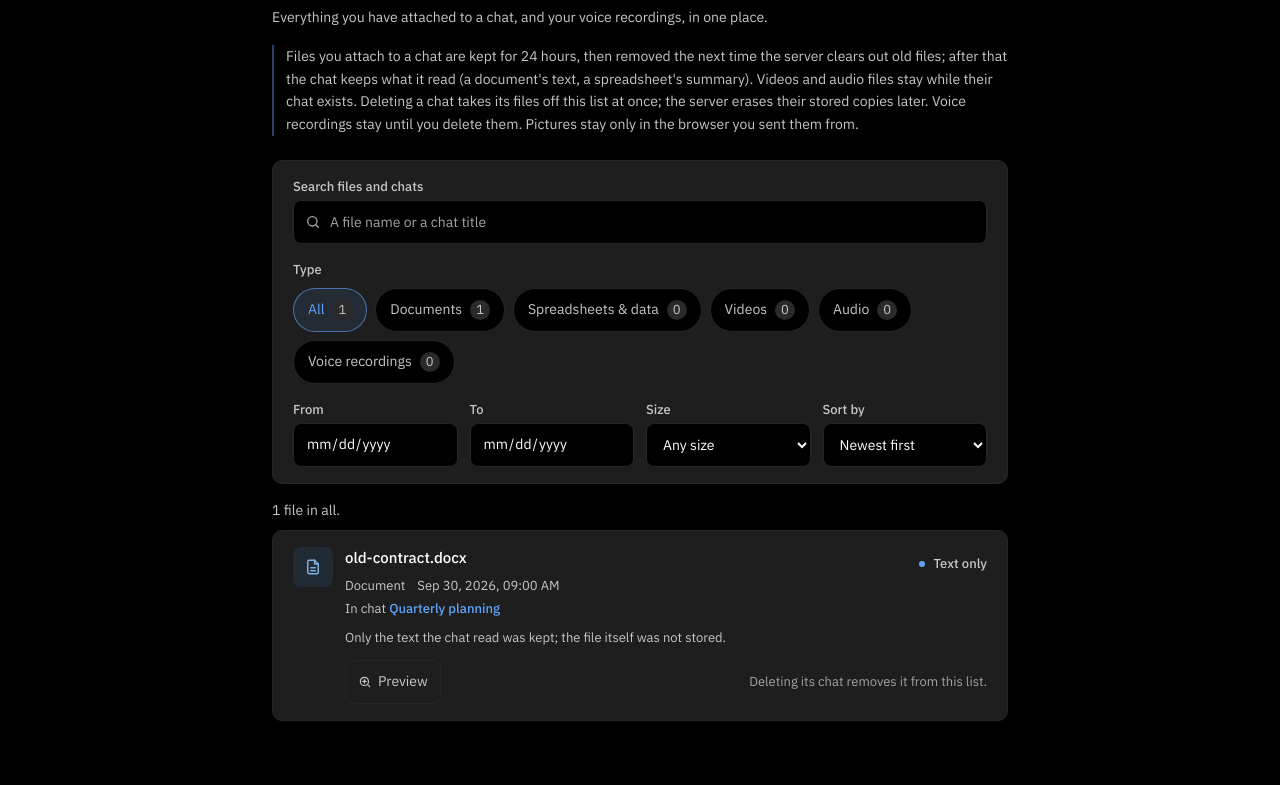
Test: each row › previews a text-only document from the text the chat read
(page scrolled)
Click the button named "Preview old-contract.docx" at (393, 682), box x1=345 y1=660 x2=441 y2=704
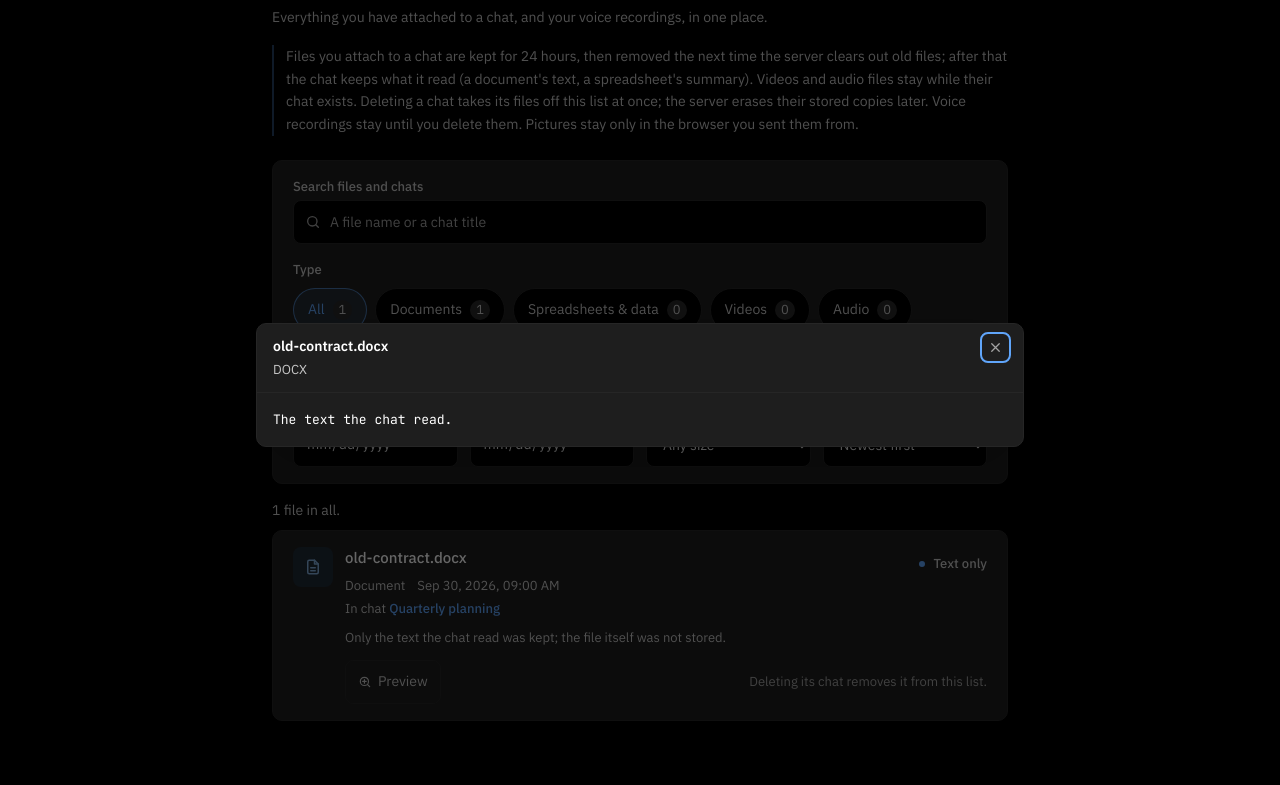
Expected: the heading "old-contract.docx" in the row of "Text only" is shown, x1=345 y1=548 x2=467 y2=567
Result: the text "The text the chat read." is shown at x1=273 y1=410 x2=452 y2=428
